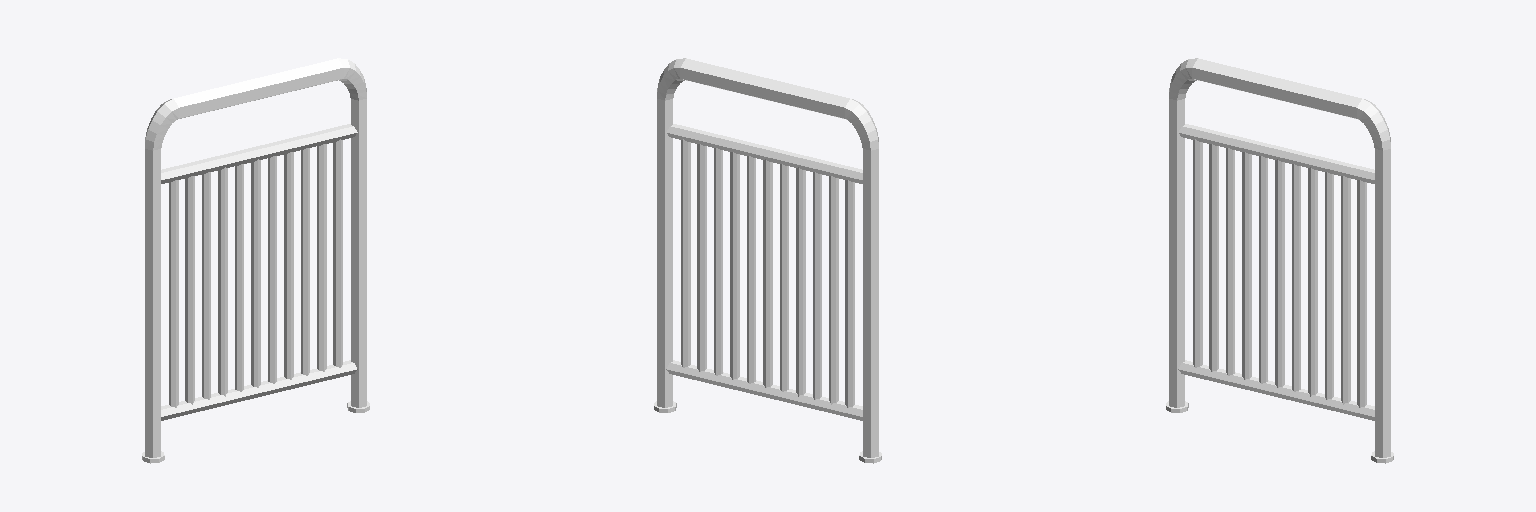
The model's file is dend.obj.
3 views of the same model, side by side, from view 1: azimuth 30°, elevation 25°; view 2: azimuth 150°, elevation 25°; view 3: azimuth 330°, elevation 25° (orthographic).
Parts seen in each view (by area): view 1: 贝塞尔曲线.007, 贝塞尔曲线.003, 贝塞尔曲线.004, 贝塞尔曲线.033, 贝塞尔曲线.035, 贝塞尔曲线.022, 贝塞尔曲线.024, 贝塞尔曲线.026, 贝塞尔曲线.031, 贝塞尔曲线.025, 贝塞尔曲线.027, 贝塞尔曲线.029 (+6 smaller); view 2: 贝塞尔曲线.007, 贝塞尔曲线.003, 贝塞尔曲线.004, 贝塞尔曲线.033, 贝塞尔曲线.035, 贝塞尔曲线.022, 贝塞尔曲线.024, 贝塞尔曲线.026, 贝塞尔曲线.031, 贝塞尔曲线.025, 贝塞尔曲线.027, 贝塞尔曲线.029 (+6 smaller); view 3: 贝塞尔曲线.003, 贝塞尔曲线.007, 贝塞尔曲线.004, 贝塞尔曲线.033, 贝塞尔曲线.035, 贝塞尔曲线.027, 贝塞尔曲线.029, 贝塞尔曲线.025, 贝塞尔曲线.031, 贝塞尔曲线.022, 贝塞尔曲线.024, 贝塞尔曲线.026 (+6 smaller).
Part boxes in pixels (x1,y1,x2,y2): 贝塞尔曲线.007: (145, 149, 160, 457); 贝塞尔曲线.003: (351, 99, 366, 407); 贝塞尔曲线.004: (174, 58, 343, 119); 贝塞尔曲线.033: (161, 124, 357, 183); 贝塞尔曲线.035: (161, 360, 357, 420); 贝塞尔曲线.022: (218, 167, 227, 396); 贝塞尔曲线.024: (185, 176, 194, 404); 贝塞尔曲线.026: (333, 139, 342, 367); 贝塞尔曲线.031: (251, 159, 260, 387); 贝塞尔曲线.025: (169, 180, 178, 407); 贝塞尔曲线.027: (317, 144, 326, 371); 贝塞尔曲线.029: (284, 152, 293, 379); 贝塞尔曲线.007: (863, 149, 878, 457); 贝塞尔曲线.003: (657, 99, 672, 407); 贝塞尔曲线.004: (680, 58, 849, 119); 贝塞尔曲线.033: (666, 124, 862, 183); 贝塞尔曲线.035: (666, 360, 862, 420); 贝塞尔曲线.022: (796, 167, 805, 396); 贝塞尔曲线.024: (829, 176, 838, 404); 贝塞尔曲线.026: (681, 139, 690, 367); 贝塞尔曲线.031: (763, 159, 772, 387); 贝塞尔曲线.025: (845, 180, 854, 407); 贝塞尔曲线.027: (697, 144, 706, 371); 贝塞尔曲线.029: (730, 152, 739, 379); 贝塞尔曲线.003: (1375, 149, 1390, 457); 贝塞尔曲线.007: (1169, 99, 1184, 407); 贝塞尔曲线.004: (1192, 58, 1361, 119); 贝塞尔曲线.033: (1178, 124, 1374, 183); 贝塞尔曲线.035: (1178, 360, 1374, 420); 贝塞尔曲线.027: (1341, 176, 1350, 404); 贝塞尔曲线.029: (1308, 167, 1317, 396); 贝塞尔曲线.025: (1193, 139, 1202, 367); 贝塞尔曲线.031: (1275, 159, 1284, 387); 贝塞尔曲线.022: (1242, 152, 1251, 379); 贝塞尔曲线.024: (1209, 144, 1218, 371); 贝塞尔曲线.026: (1357, 180, 1366, 407).
Bounding box in the file's own units: 1.1 × 1.65 × 0.1.